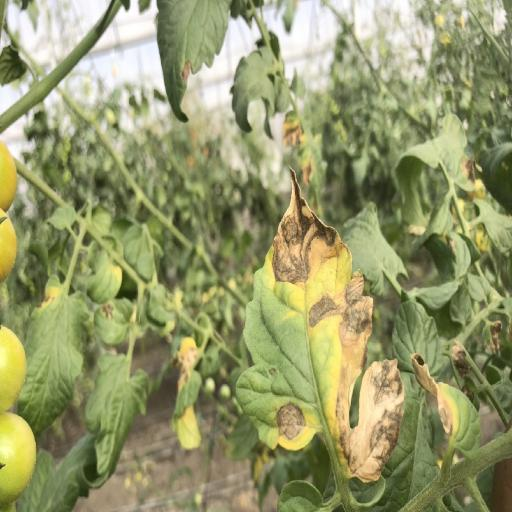disease_tomato: (232, 166, 407, 484)
